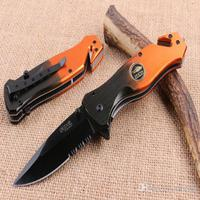knife: (9, 30, 185, 190)
